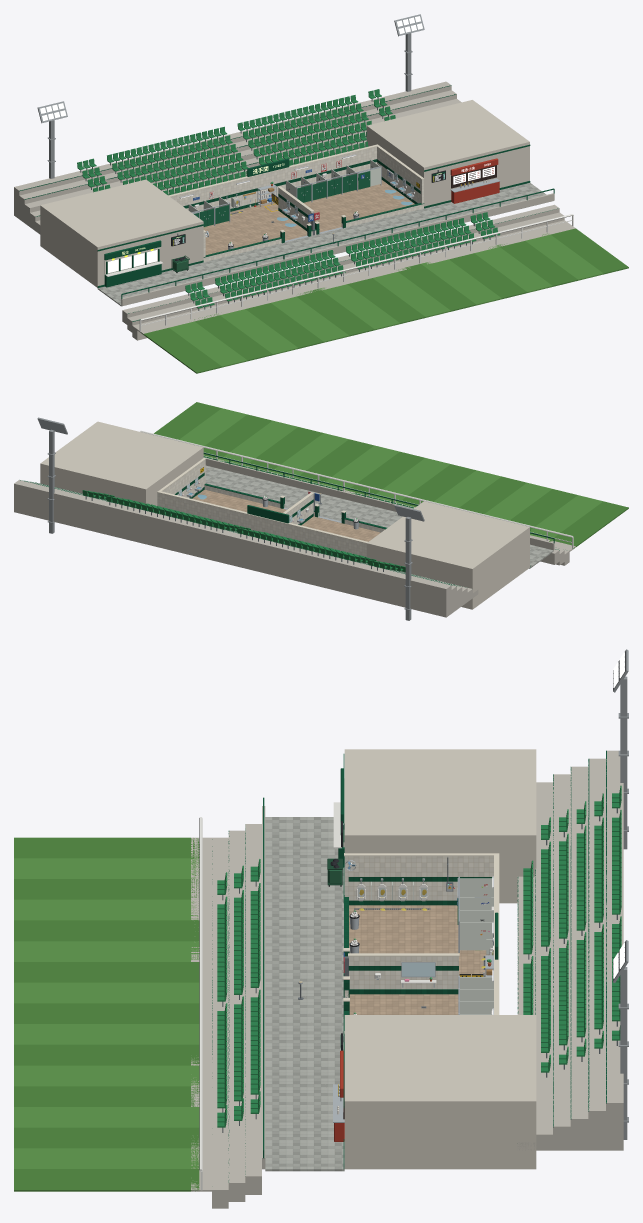
File: level_racecourse.glb
The picture shows the model from 3 angles, top to bottom: view 1: azimuth 30°, elevation 25°; view 2: azimuth 150°, elevation 25°; view 3: azimuth 270°, elevation 25°; orthographic projection. The views are drawn at different scales.
Visible parts, largest first — view 1: neighbours, track, street, walls, floor, stall_partitions, decor, signage; view 2: neighbours, track, street, walls, floor, signage; view 3: neighbours, track, street, walls, floor, stall_partitions, decor.
Part boxes in pixels (left/top/right/bottom): neighbours: left=14, top=14, right=530, bottom=287; track: left=122, top=204, right=628, bottom=373; street: left=97, top=183, right=554, bottom=306; walls: left=168, top=144, right=424, bottom=261; floor: left=203, top=180, right=414, bottom=255; stall_partitions: left=188, top=159, right=381, bottom=226; decor: left=171, top=154, right=419, bottom=272; signage: left=247, top=158, right=319, bottom=235; neighbours: left=14, top=417, right=530, bottom=620; track: left=140, top=402, right=628, bottom=565; street: left=203, top=452, right=554, bottom=568; walls: left=157, top=458, right=386, bottom=556; floor: left=192, top=489, right=380, bottom=541; signage: left=247, top=491, right=319, bottom=523; neighbours: left=333, top=649, right=628, bottom=1169; track: left=14, top=817, right=261, bottom=1208; street: left=262, top=797, right=344, bottom=1171; walls: left=343, top=853, right=499, bottom=1061; floor: left=349, top=905, right=488, bottom=1014; stall_partitions: left=457, top=876, right=493, bottom=1014; decor: left=298, top=858, right=493, bottom=1014.
Size of the model in its own units: 40.09 by 12.04 by 29.51.
86 materials, 4 textured.
